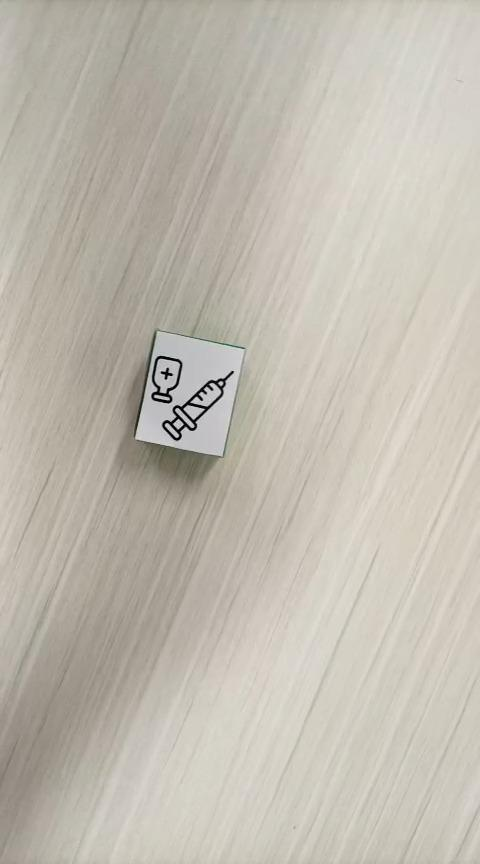antiseptic cream: (132, 328, 246, 459)
